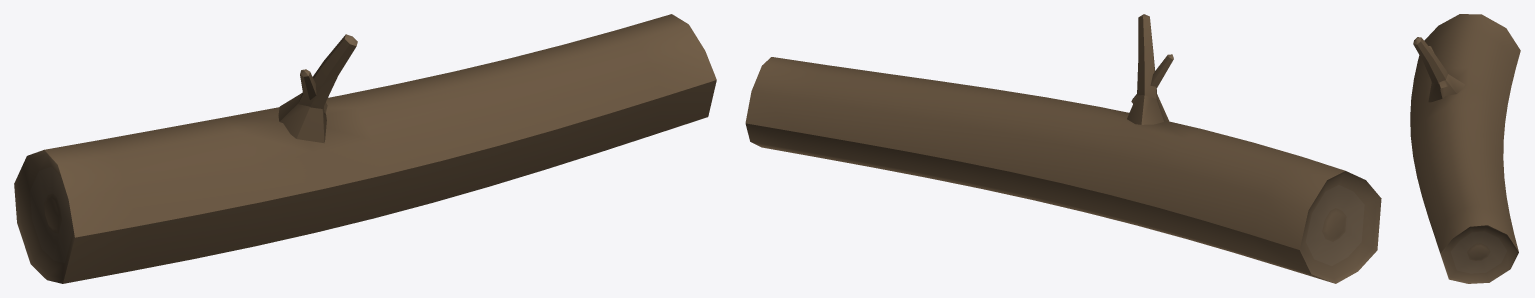
Rendered from p_fallen_log.glb.
3 renders of one model, left to right at view 1: azimuth 30°, elevation 25°; view 2: azimuth 150°, elevation 25°; view 3: azimuth 270°, elevation 25°, orthographic. The views are drawn at different scales.
Parts seen in each view (by area): view 1: p_fallen_log; view 2: p_fallen_log; view 3: p_fallen_log.
Part boxes in pixels (box(x1,y1,x2,y2)): p_fallen_log: box(14, 14, 716, 283); p_fallen_log: box(745, 14, 1381, 283); p_fallen_log: box(1410, 14, 1520, 283).
Size of the model in its own units: 3.09 by 0.8976 by 0.7026.
